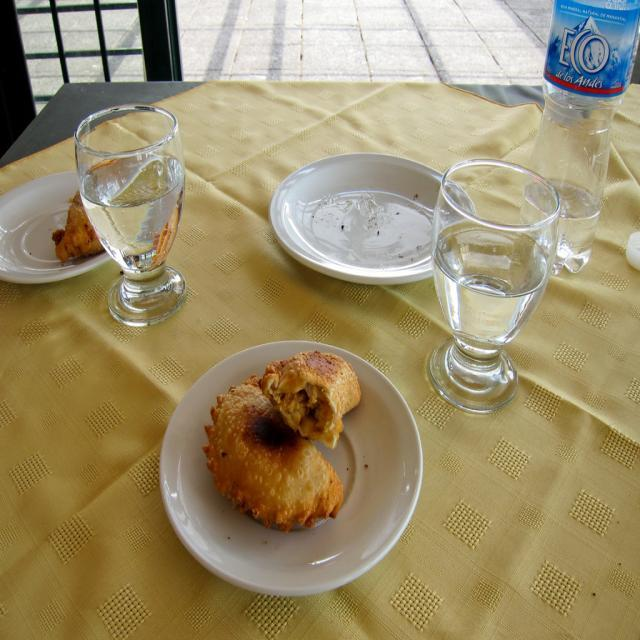ceramic plate: (164, 336, 424, 598)
